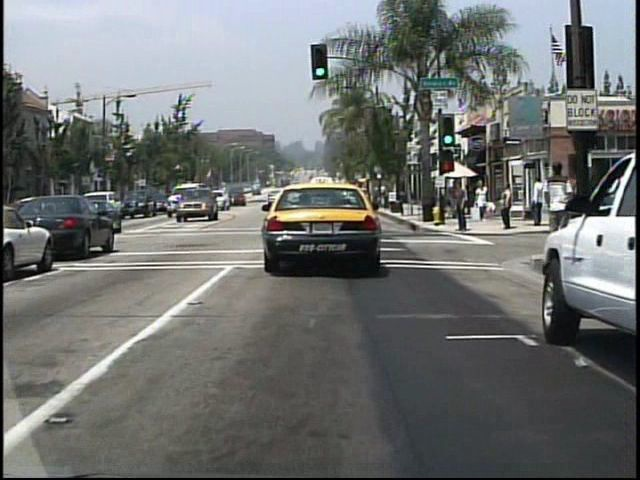person: (541, 158, 576, 261), (455, 182, 472, 236), (501, 182, 519, 230), (448, 181, 465, 226), (478, 180, 494, 222)
